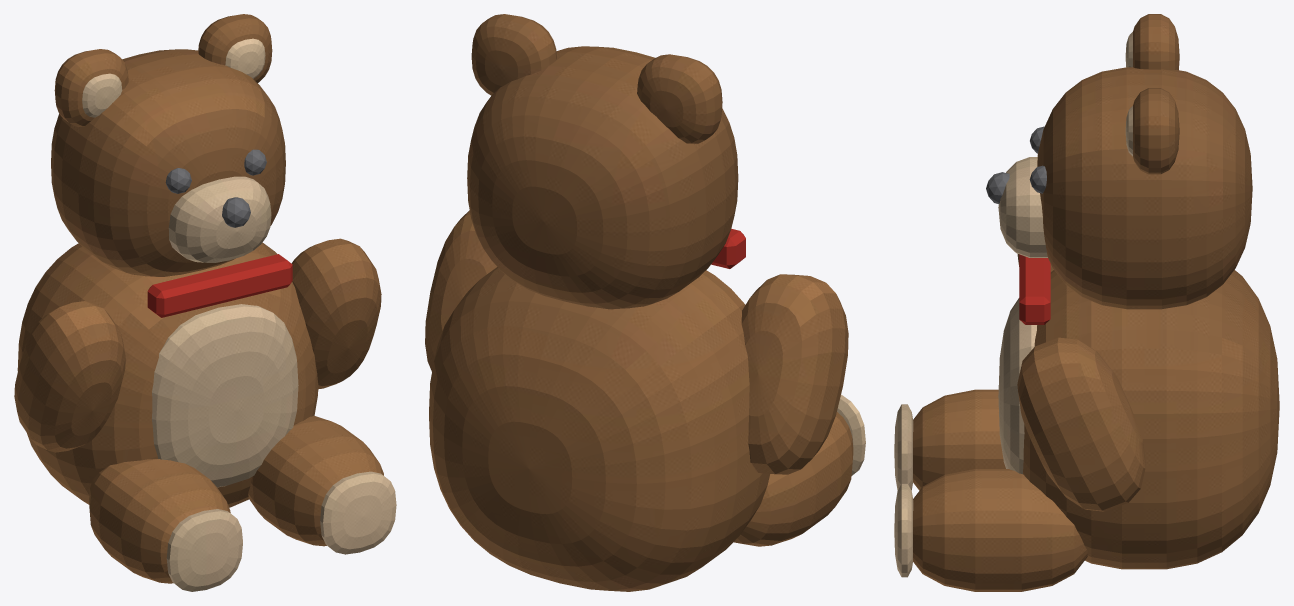
The model's file is ursinho.glb.
3 renders of one model, left to right at view 1: azimuth 30°, elevation 25°; view 2: azimuth 150°, elevation 25°; view 3: azimuth 270°, elevation 25°, orthographic. The views are drawn at different scales.
Visible parts, largest first — view 1: ursinho_pelucia, ursinho_pelucia_clara, ursinho_tinta_vermelha, ursinho_esmalte_escuro; view 2: ursinho_pelucia, ursinho_pelucia_clara, ursinho_tinta_vermelha; view 3: ursinho_pelucia, ursinho_pelucia_clara, ursinho_tinta_vermelha, ursinho_esmalte_escuro.
Boxes of the visible parts, <box> form: ursinho_pelucia: <box>14,14,383,583</box>; ursinho_pelucia_clara: <box>82,38,396,591</box>; ursinho_tinta_vermelha: <box>147,254,292,317</box>; ursinho_esmalte_escuro: <box>165,149,266,227</box>; ursinho_pelucia: <box>425,14,853,591</box>; ursinho_pelucia_clara: <box>837,394,865,475</box>; ursinho_tinta_vermelha: <box>711,228,745,268</box>; ursinho_pelucia: <box>913,14,1279,591</box>; ursinho_pelucia_clara: <box>894,32,1132,577</box>; ursinho_tinta_vermelha: <box>1019,254,1050,324</box>; ursinho_esmalte_escuro: <box>986,126,1046,203</box>.
Bounding box in the file's own units: 0.1994 × 0.2594 × 0.185.
Materials: 4 (2 with a texture image).
